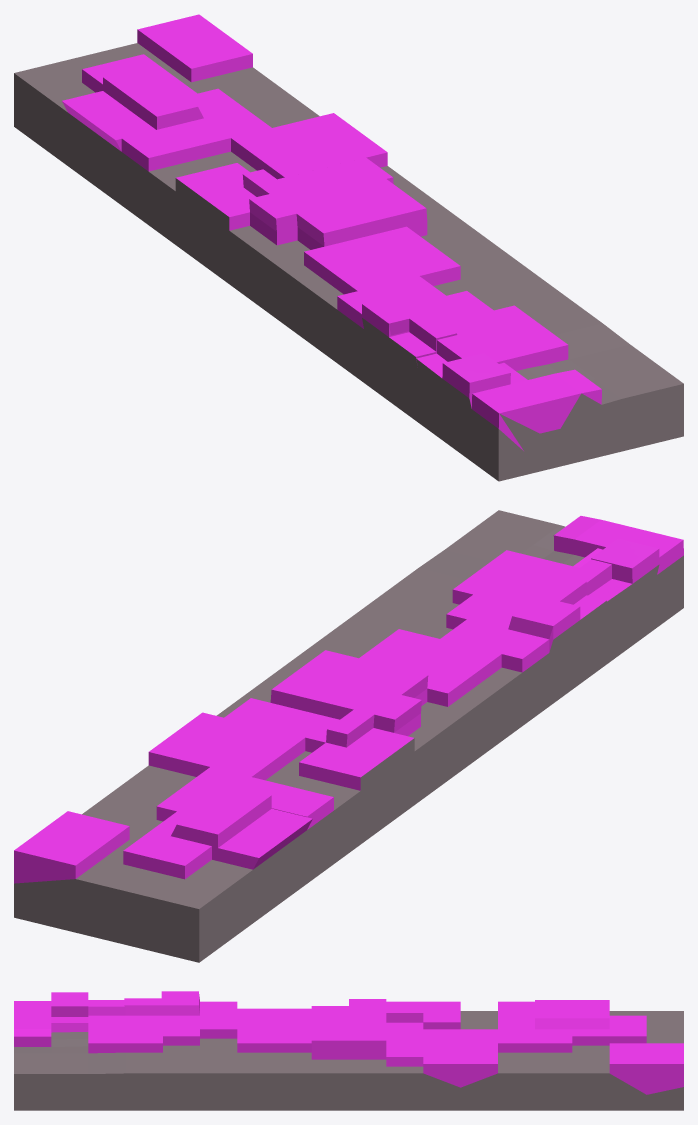
Rendered from floorEdge.gltf.
The picture shows the model from 3 angles, top to bottom: view 1: azimuth 30°, elevation 25°; view 2: azimuth 150°, elevation 25°; view 3: azimuth 270°, elevation 25°; orthographic projection. The views are drawn at different scales.
Parts seen in each view (by area): view 1: 立方体; view 2: 立方体; view 3: 立方体.
Boxes of the visible parts, <box> form: 立方体: <box>14,14,683,481</box>; 立方体: <box>14,510,683,962</box>; 立方体: <box>14,991,683,1110</box>.
Bounding box in the file's own units: 7.46 × 3.01 × 32.75.
1 material, 1 textured.
